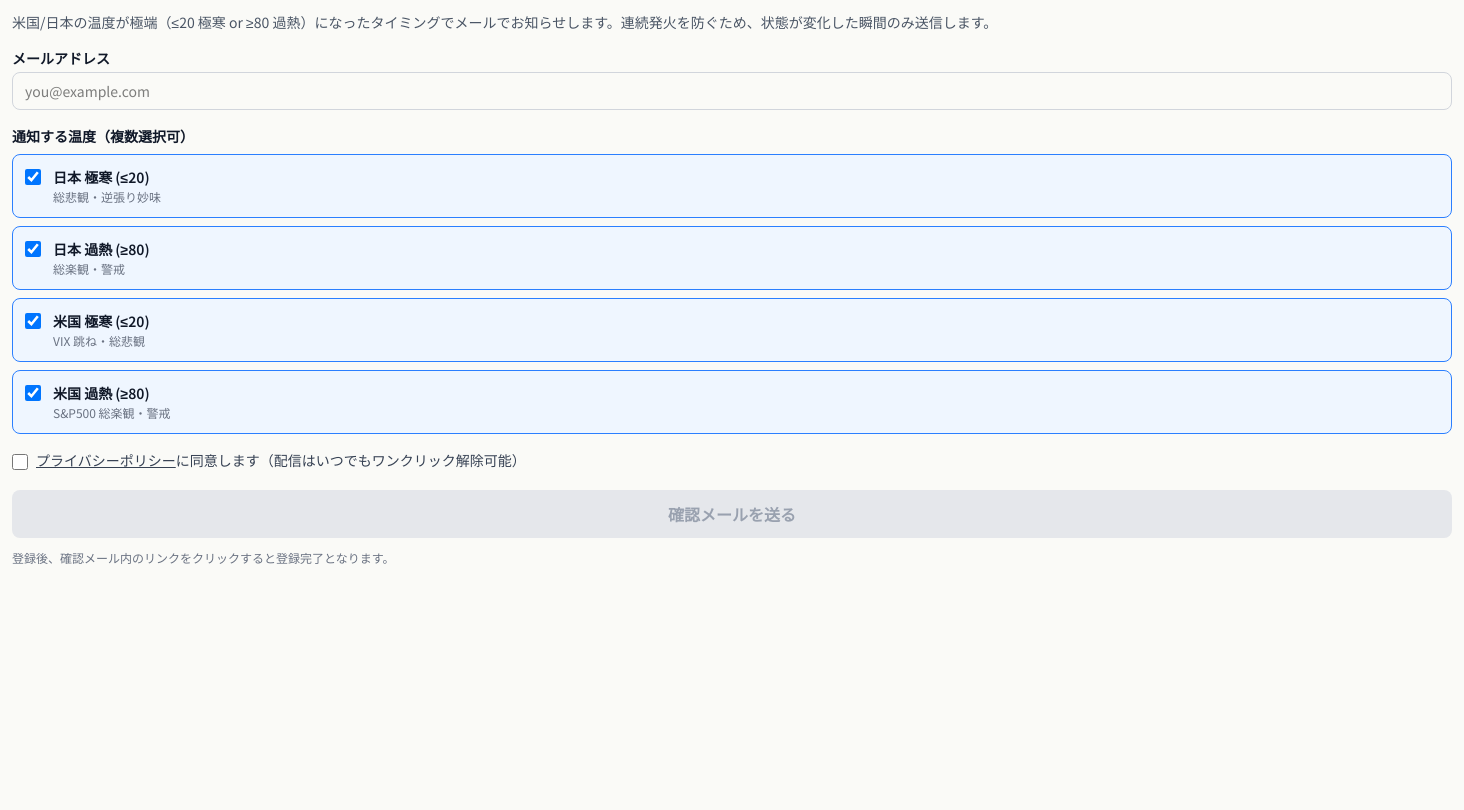
Test: AlertSignupForm › 送信成功で確認メール案内を表示
Type "test@example.com" into the field labelled "メールアドレス".
click(732, 91); type("test@example.com")  # box [12,72,1452,110]
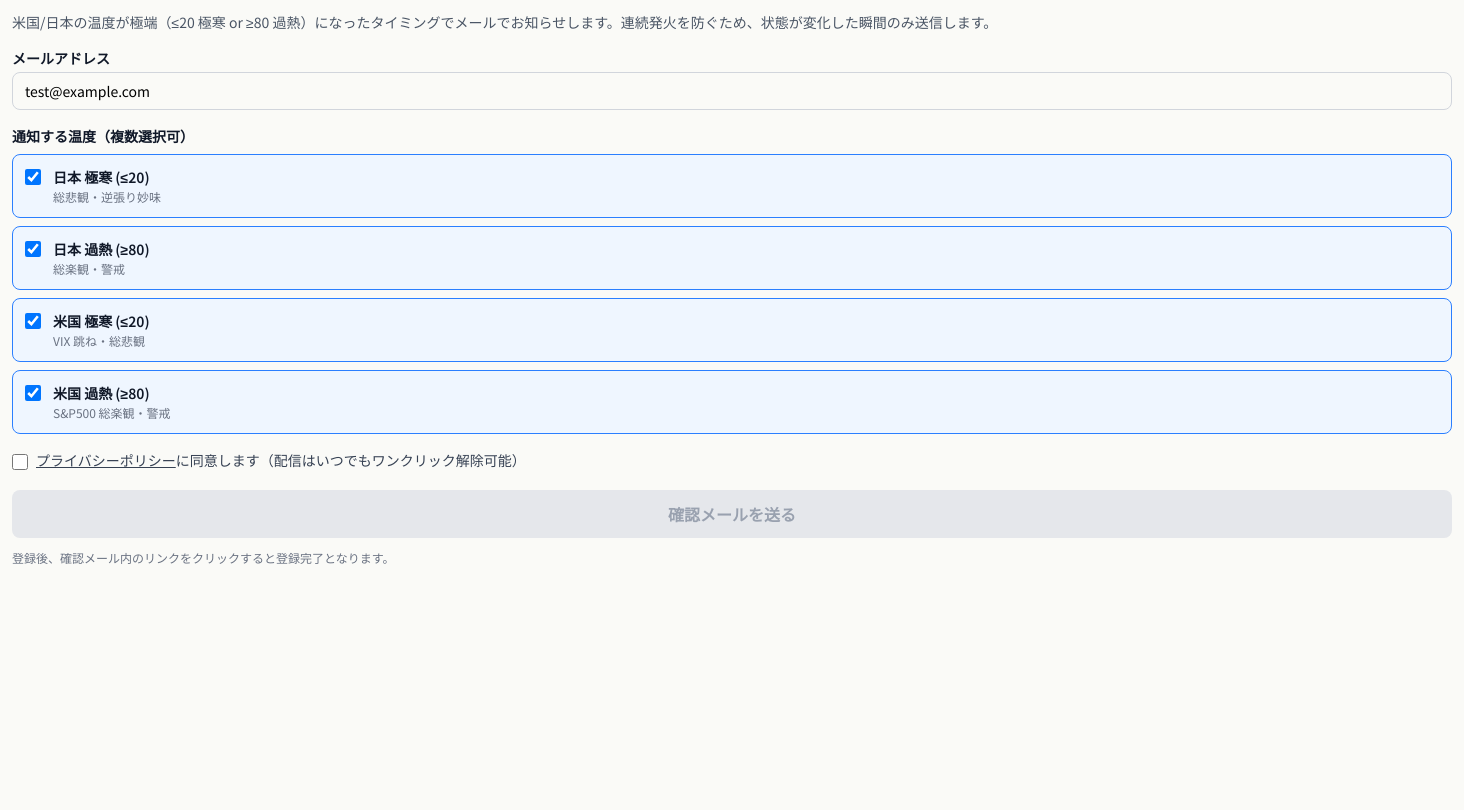
Click the checkbox labelled "プライバシーポリシー に同意します（配信はいつでもワンクリック解除可能）".
click(20, 462)  # box [12,454,28,470]
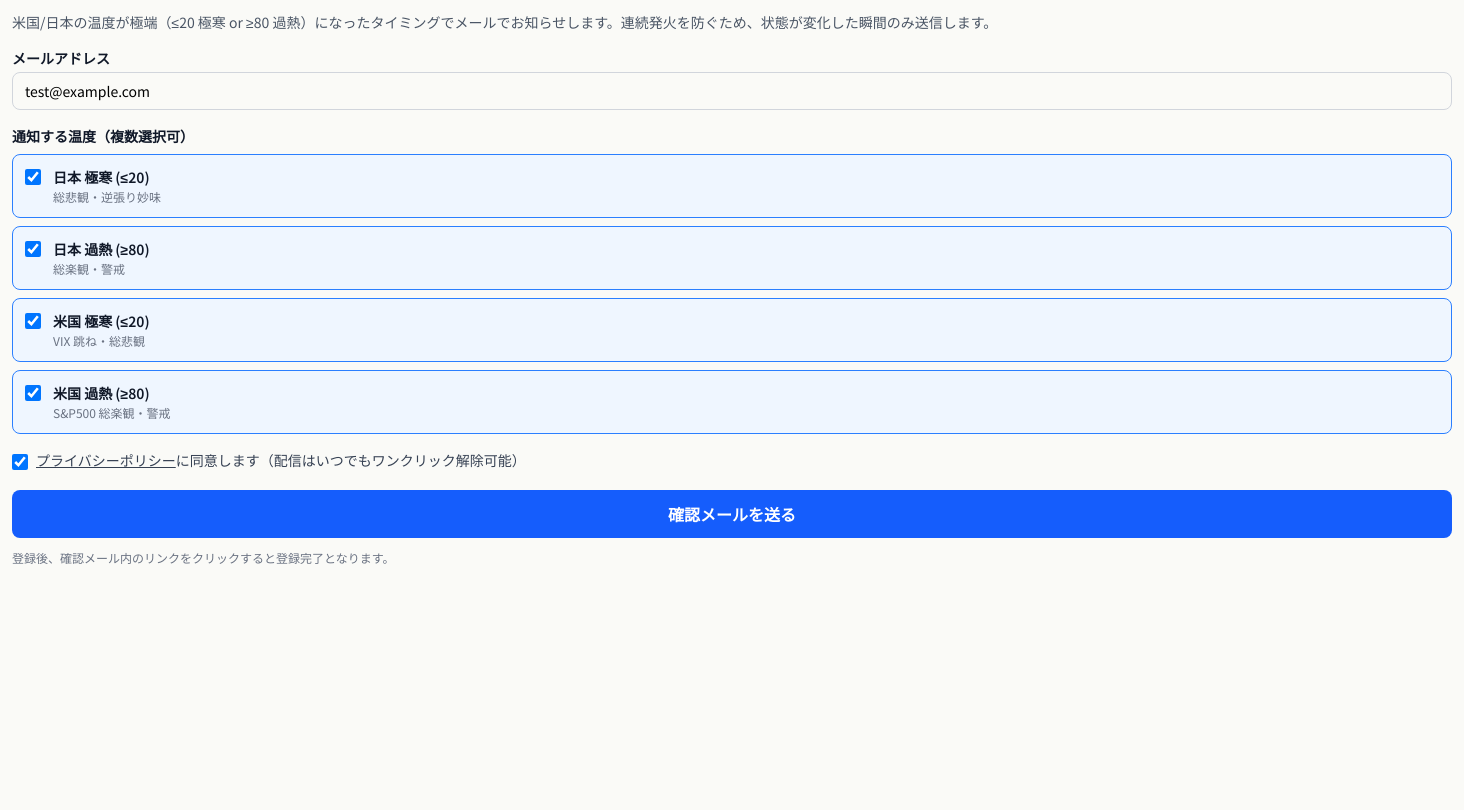
Click the button "確認メールを送る".
click(732, 514)  # box [12,490,1452,538]
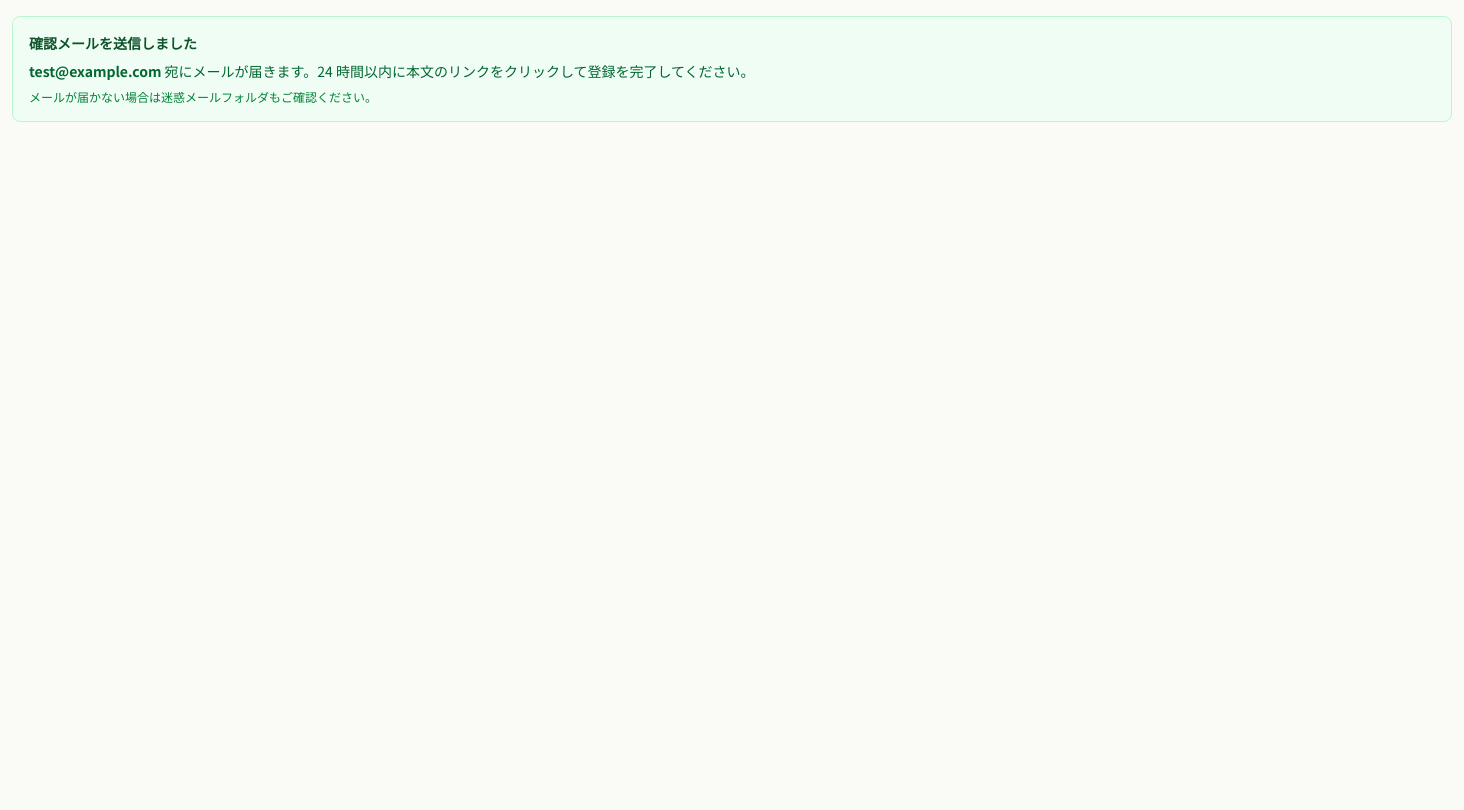
Result: the text "確認メールを送信しました" is shown at [29,33,197,53]
Result: the text "test@example.com" is shown at [29,61,162,81]
